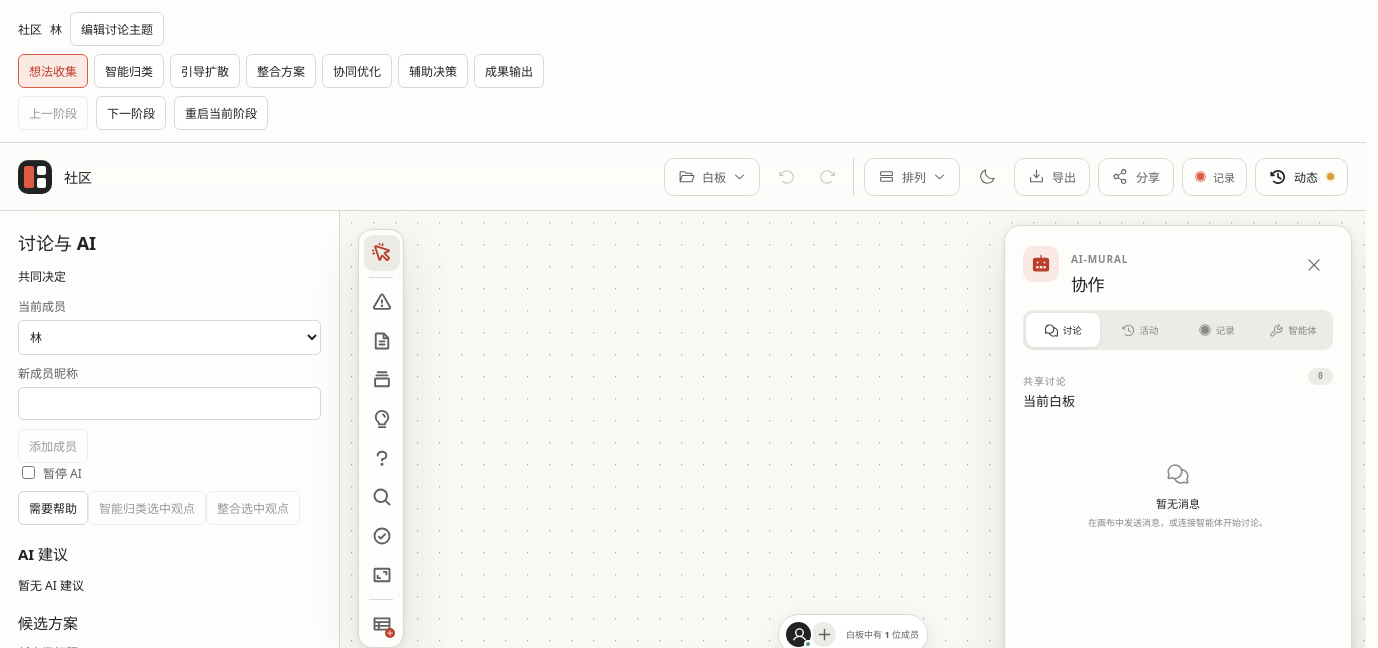
Test: 无 Key 及网络错误明确显示，普通白板仍能添加观点
The image size is (1378, 648).
Click the button "需要帮助" at (53, 508), box [18,491,88,525]
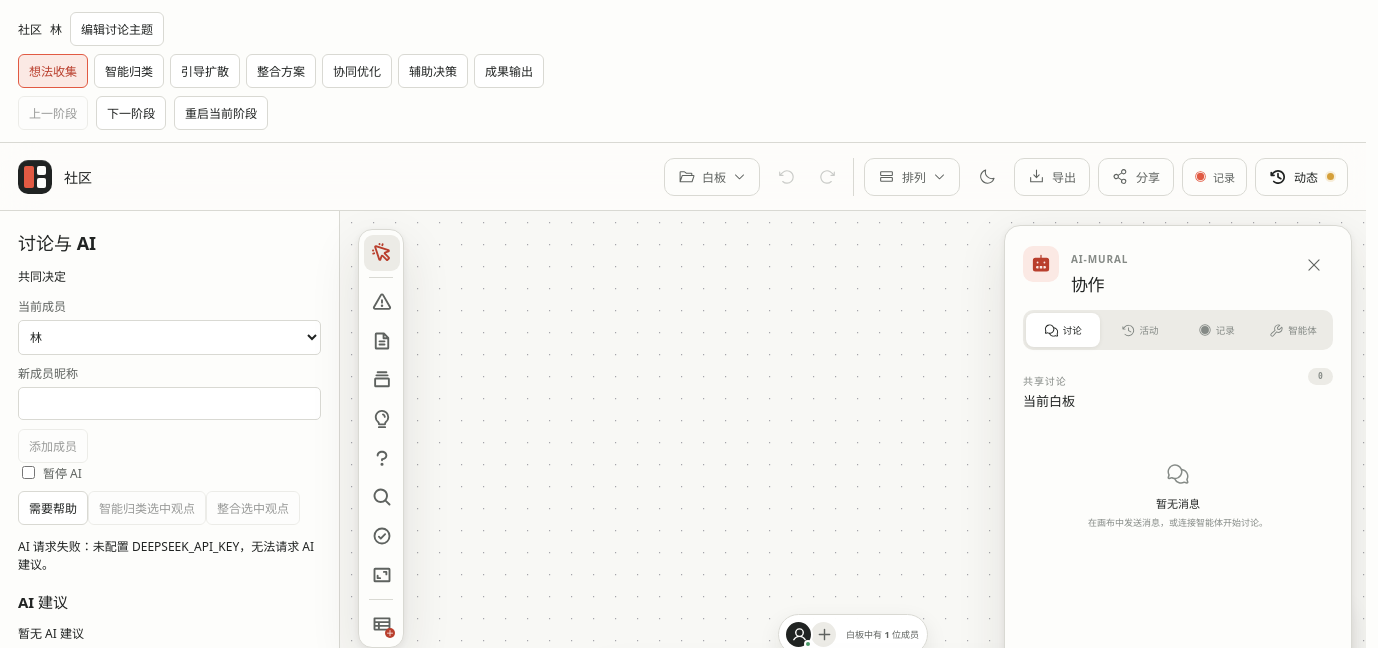
Expected: the text "AI 请求失败：未配置 DEEPSEEK_API_KEY，无法请求 AI 建议。" is shown, [18,537,321,573]
Click the button named "添加观点" at (382, 419), box [364,401,400,437]
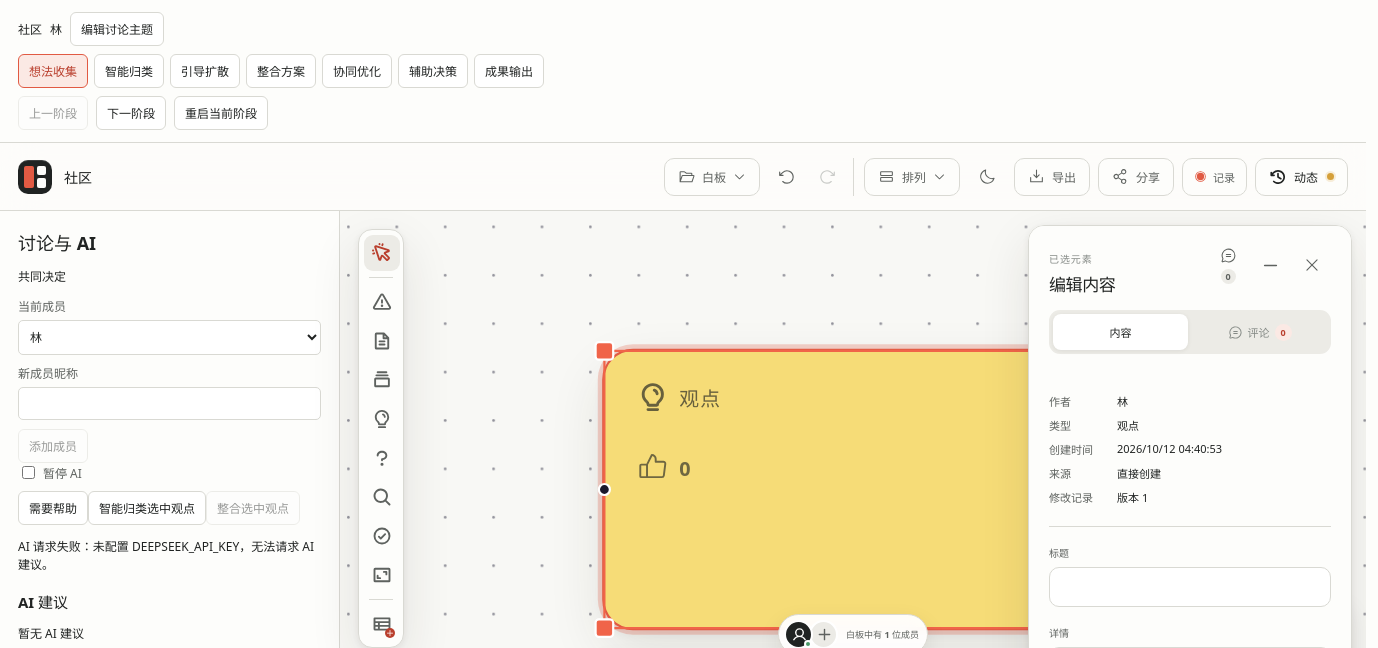
Click the button "需要帮助" at (53, 508), box [18,491,88,525]
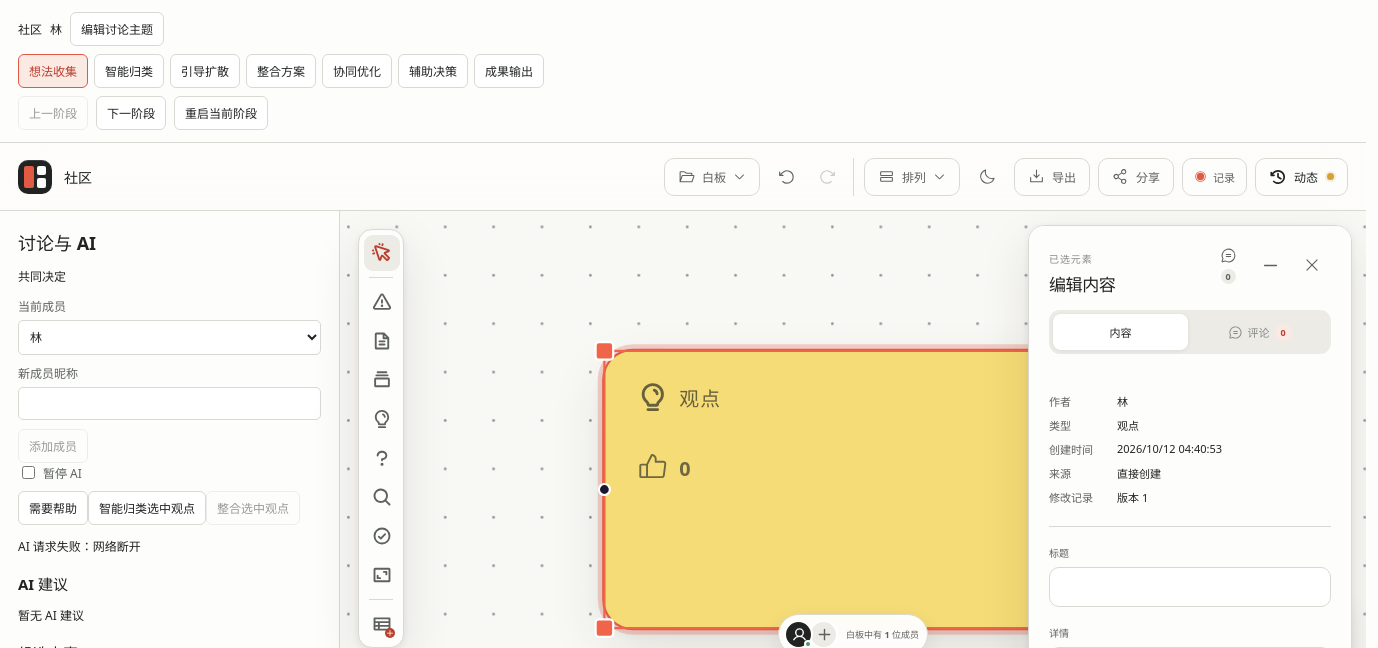
Expected: the text "AI 请求失败：网络断开" is shown, [18,538,141,555]
